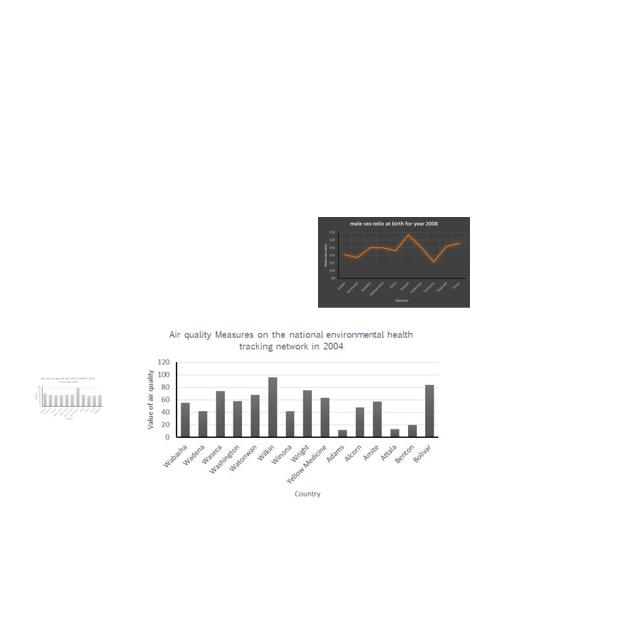Graph: (138, 323, 446, 507), (318, 217, 470, 308), (33, 376, 104, 420)
